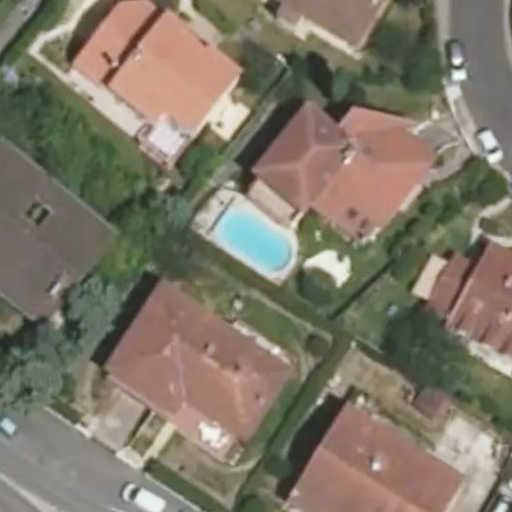pool: (210, 233, 301, 251)
